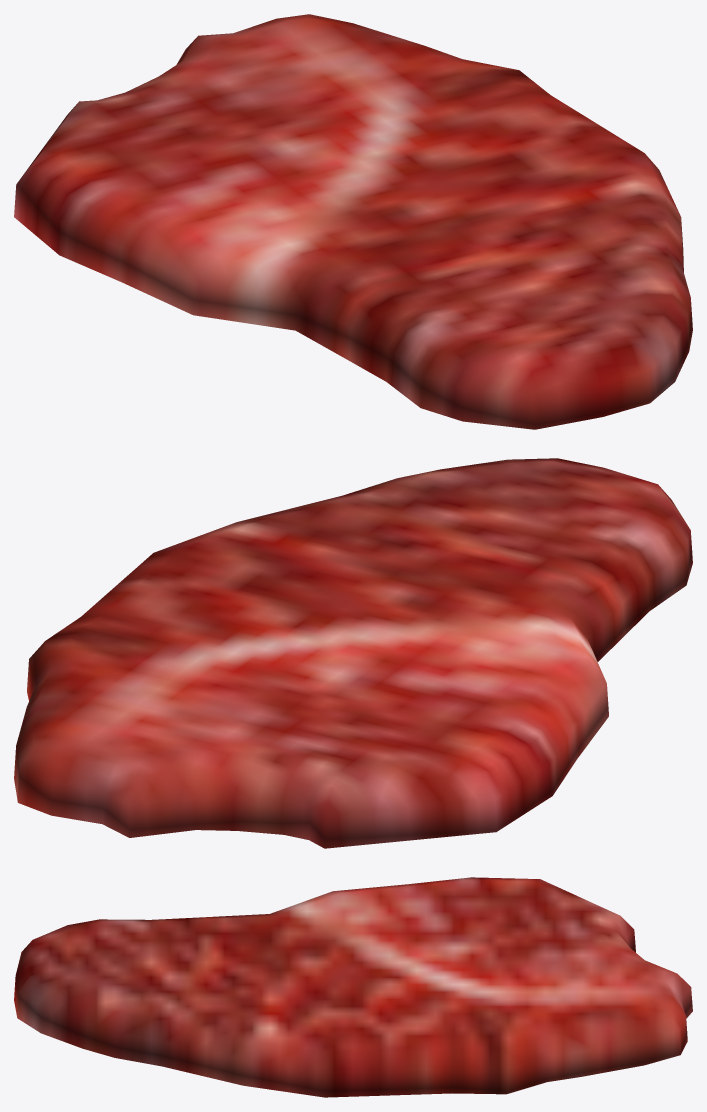
File: Meat.fbx
3 renders of one model, top to bottom at view 1: azimuth 30°, elevation 25°; view 2: azimuth 150°, elevation 25°; view 3: azimuth 270°, elevation 25°, orthographic. The views are drawn at different scales.
Parts seen in each view (by area): view 1: Meat; view 2: Meat; view 3: Meat.
Part boxes in pixels (x1,y1,x2,y2): Meat: (14,14,692,429); Meat: (14,458,692,848); Meat: (14,877,692,1097).
Size of the model in its own units: 36.56 by 4.11 by 56.22.
Materials: 1 (1 with a texture image).
